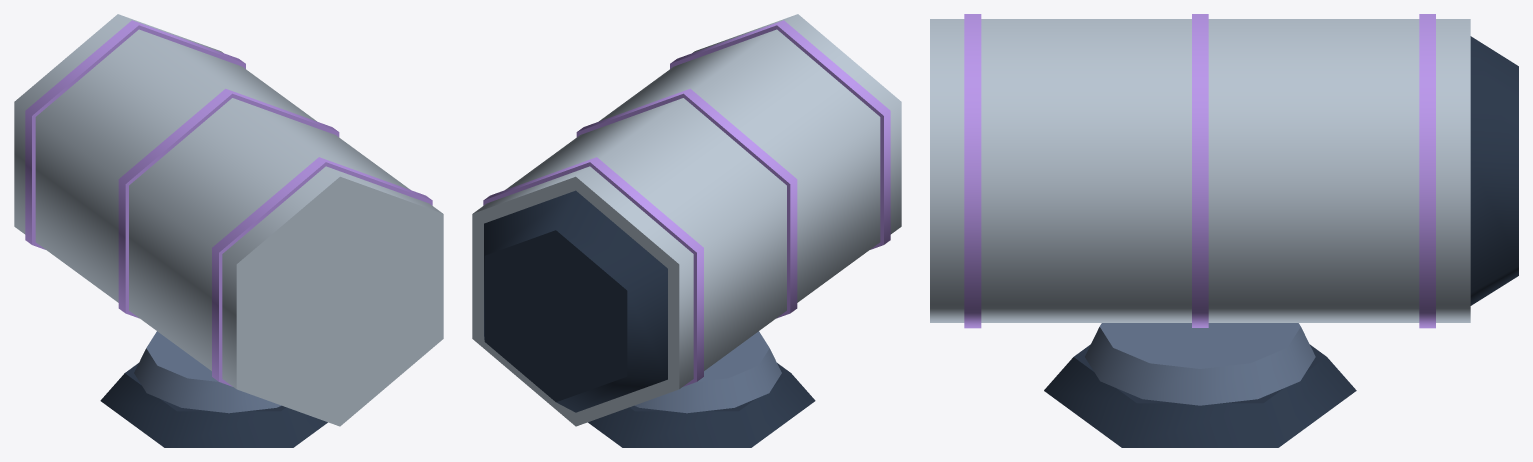
File: cryogenic_hydrocarbon--cargo_pod.glb
3 views of the same model, side by side, from view 1: azimuth 30°, elevation 25°; view 2: azimuth 150°, elevation 25°; view 3: azimuth 270°, elevation 25° (orthographic). The views are drawn at different scales.
Visible parts, largest first — view 1: sealed_pod_3, mount_adapter_1, rotation_bearing_2, containment_band_5, containment_band_4, containment_band_6; view 2: sealed_pod_3, pod_end_7, mount_adapter_1, rotation_bearing_2, containment_band_5, containment_band_6, containment_band_4; view 3: sealed_pod_3, rotation_bearing_2, mount_adapter_1, pod_end_7, containment_band_6, containment_band_4, containment_band_5.
Part boxes in pixels (x1,y1,x2,y2): sealed_pod_3: (14,14,443,426); mount_adapter_1: (100,363,327,447); rotation_bearing_2: (134,331,281,413); containment_band_5: (118,88,339,318); containment_band_4: (25,20,245,249); containment_band_6: (212,157,432,386); sealed_pod_3: (472,14,901,426); pod_end_7: (484,190,667,412); mount_adapter_1: (588,363,815,447); rotation_bearing_2: (634,331,781,413); containment_band_5: (576,88,797,318); containment_band_6: (670,20,890,249); containment_band_4: (483,157,703,386); sealed_pod_3: (930,19,1470,322); rotation_bearing_2: (1085,323,1315,405); mount_adapter_1: (1044,344,1356,447); pod_end_7: (1470,36,1518,305); containment_band_6: (964,14,981,328); containment_band_4: (1419,14,1435,328); containment_band_5: (1192,14,1208,327).
Bounding box in the file's own units: 19.33 × 26.76 × 37.92.
